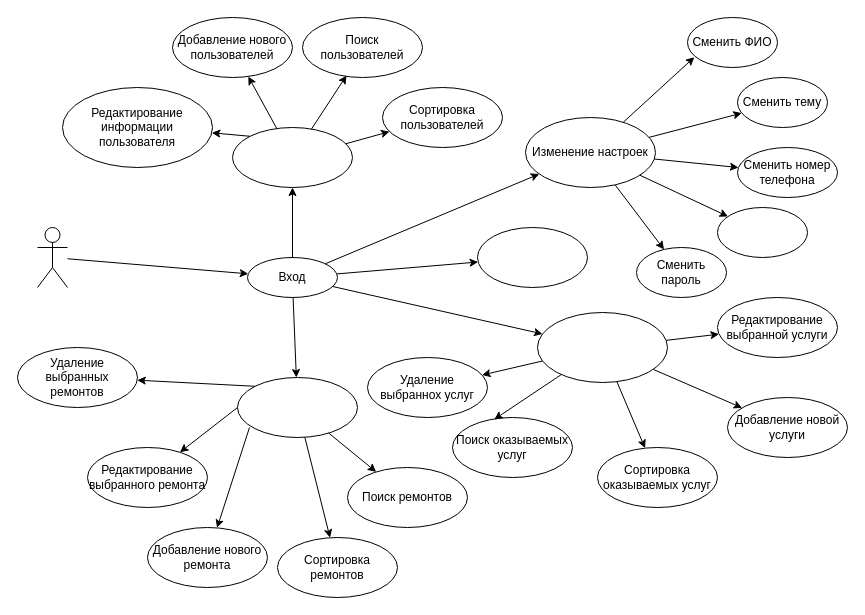
The diagram is 865 pixels wide and 615 high, and some of its shapes have lost their labels. Each missing label, with the centre of its shape:
Admin: the point at 52,257
Просмотр личной информации: the point at 532,257
Просмотр оказываемых услуг: the point at 602,347
Просмотр пользователей: the point at 292,157
Просмотр ремонтов: the point at 297,407
Сменить email: the point at 762,232
